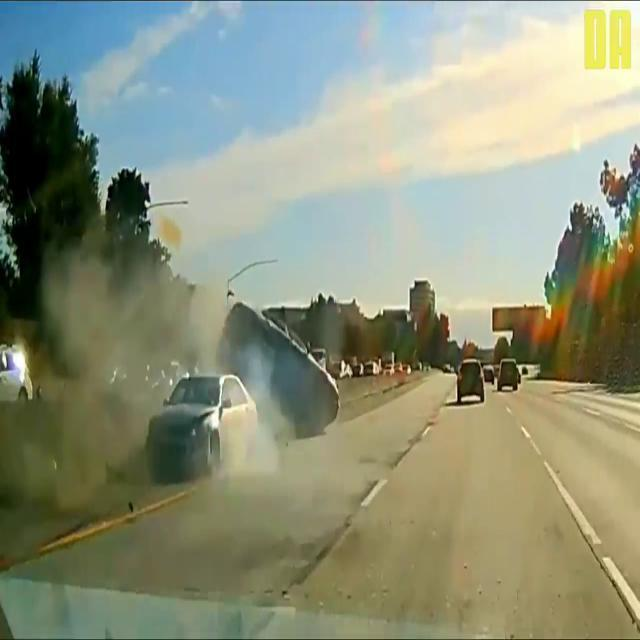accident: (143, 301, 341, 483)
non-accident: (456, 356, 522, 406), (105, 358, 178, 392)
